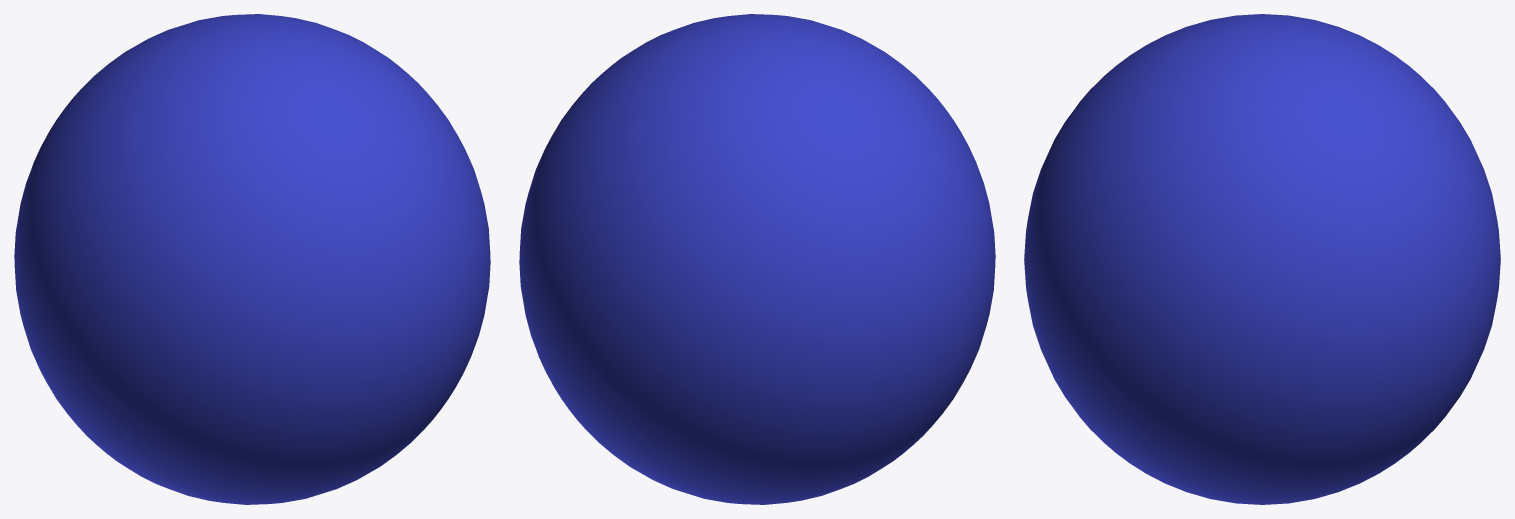
File: ball.fbx
3 renders of one model, left to right at view 1: azimuth 30°, elevation 25°; view 2: azimuth 150°, elevation 25°; view 3: azimuth 270°, elevation 25°, orthographic.
Visible parts, largest first — view 1: root; view 2: root; view 3: root.
Boxes of the visible parts, x1,y1,x2,y2 form: root: (14, 14, 490, 504); root: (519, 14, 995, 504); root: (1024, 14, 1500, 504).
Bounding box in the file's own units: 0.1837 × 0.1906 × 0.1837.
